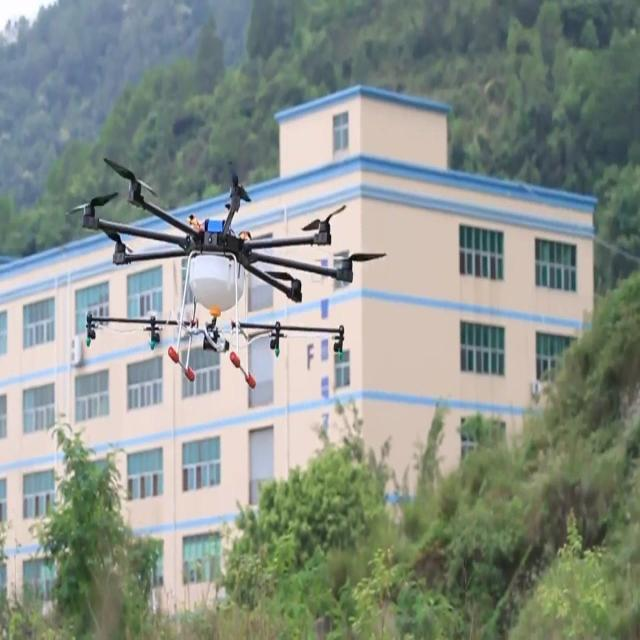drone: (65, 156, 388, 392)
